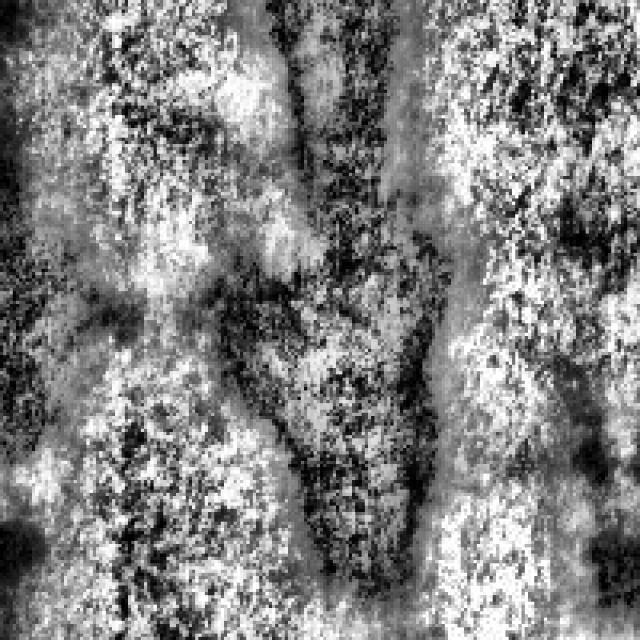Scratches: (195, 0, 458, 602), (0, 131, 128, 464)
